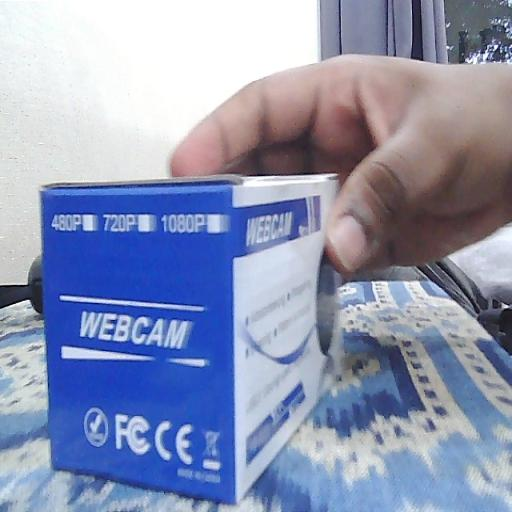webcam_box: (40, 173, 347, 503)
